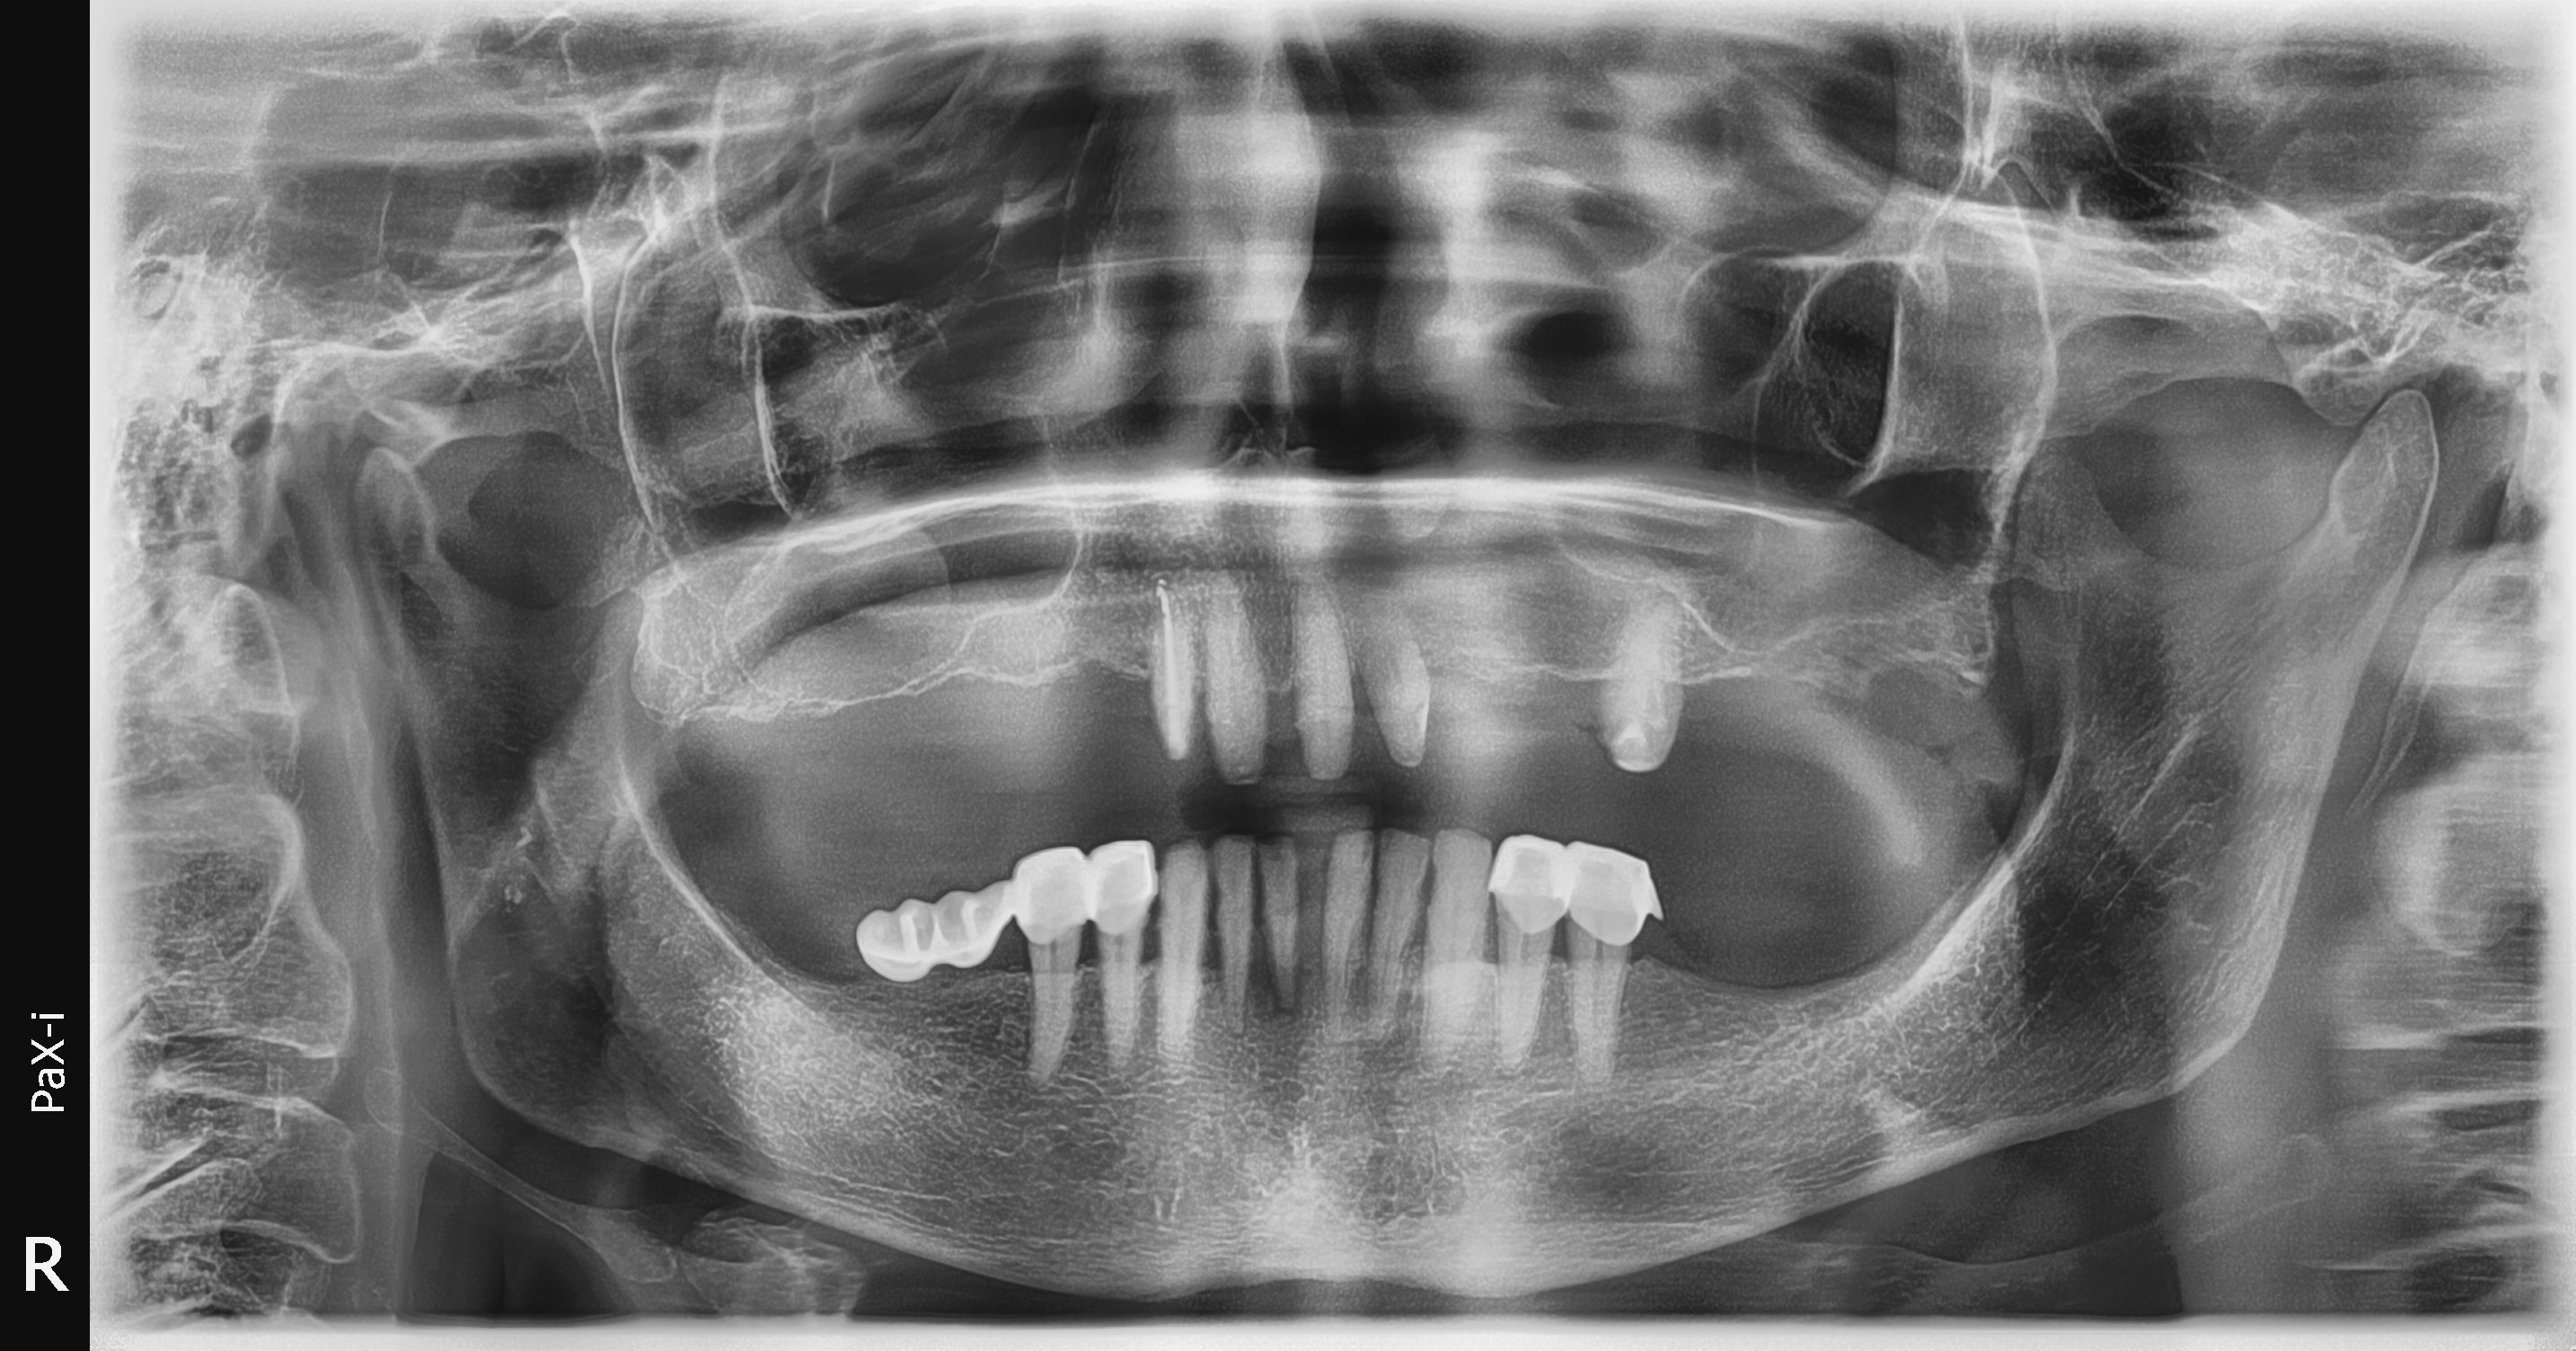API: (1245, 964, 1319, 1031)
END: (1128, 569, 1194, 712)
PRR: (826, 825, 1159, 992), (1482, 806, 1690, 949)
